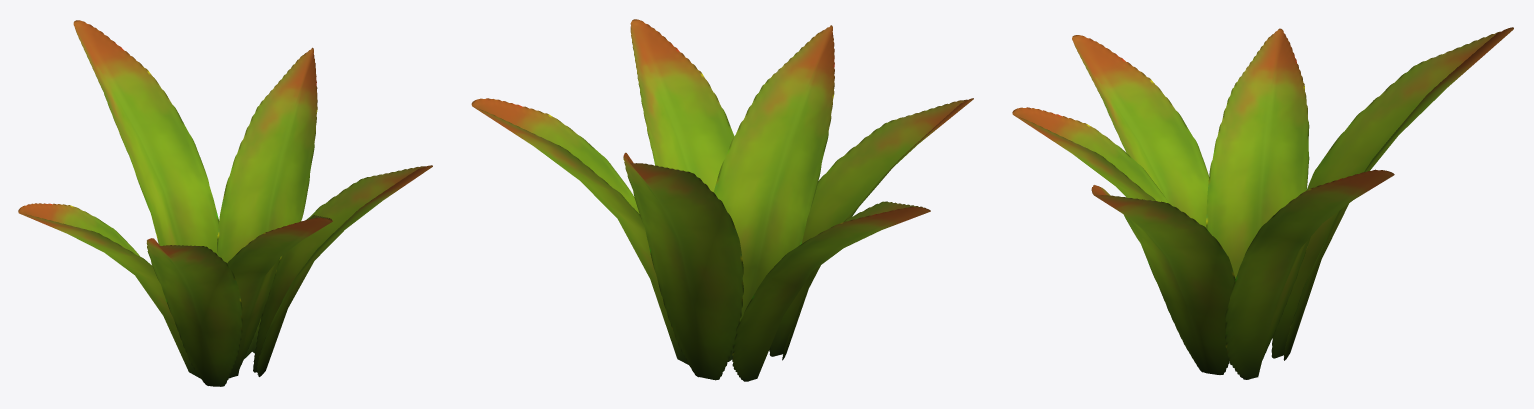
The model's file is Plant_1.gltf.
The picture shows the model from 3 angles, left to right: view 1: azimuth 30°, elevation 25°; view 2: azimuth 150°, elevation 25°; view 3: azimuth 270°, elevation 25°; orthographic projection. The views are drawn at different scales.
Parts seen in each view (by area): view 1: Plant_1; view 2: Plant_1; view 3: Plant_1.
Part boxes in pixels (box(x1,y1,x2,y2)): Plant_1: box(18, 20, 432, 386); Plant_1: box(471, 19, 973, 381); Plant_1: box(1012, 27, 1513, 379).
Size of the model in its own units: 1.27 by 1.01 by 1.39.
Materials: 1 (1 with a texture image).
